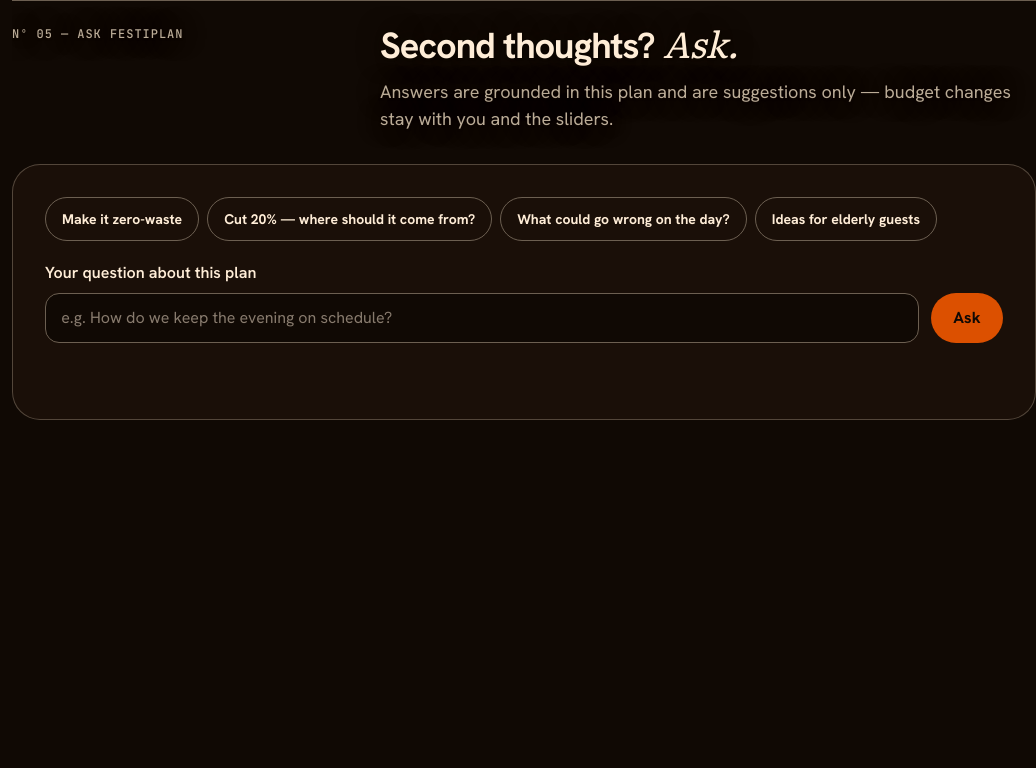
Test case: AskSection answer language › leaves the English template answer without a lang attribute
Type "Rain plan?" into the field labelled "Your question about this plan" at coordinates (482, 318), box [45,294,919,343]
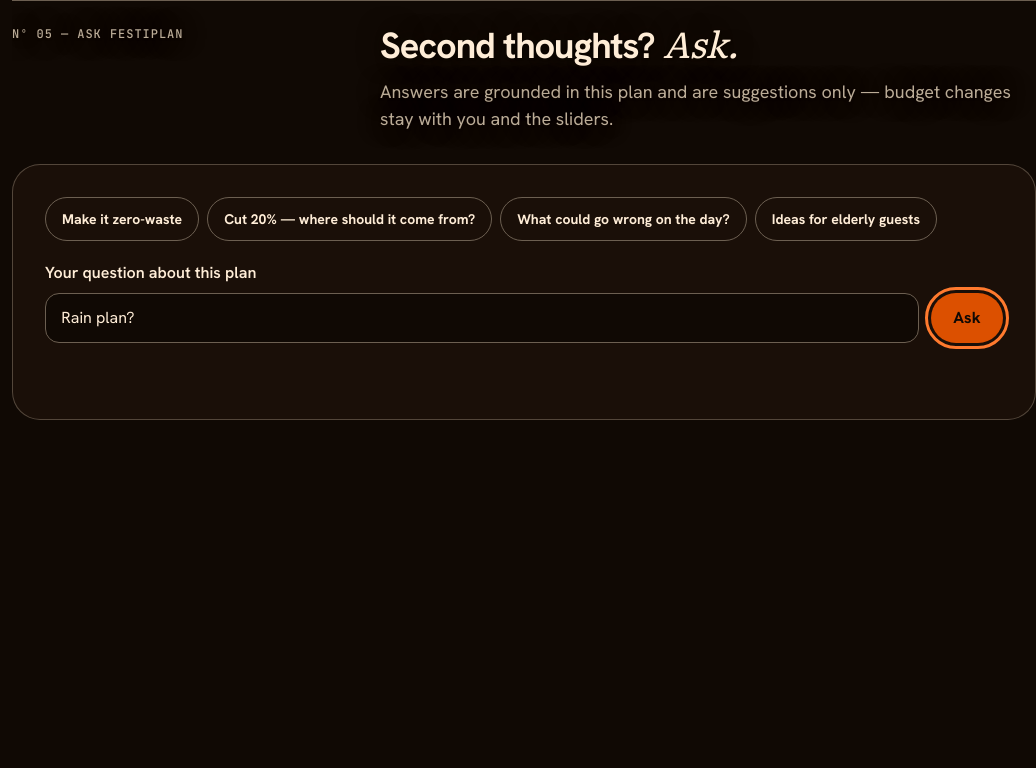
Click the button "Ask" at coordinates (967, 318), box [931,294,1003,343]
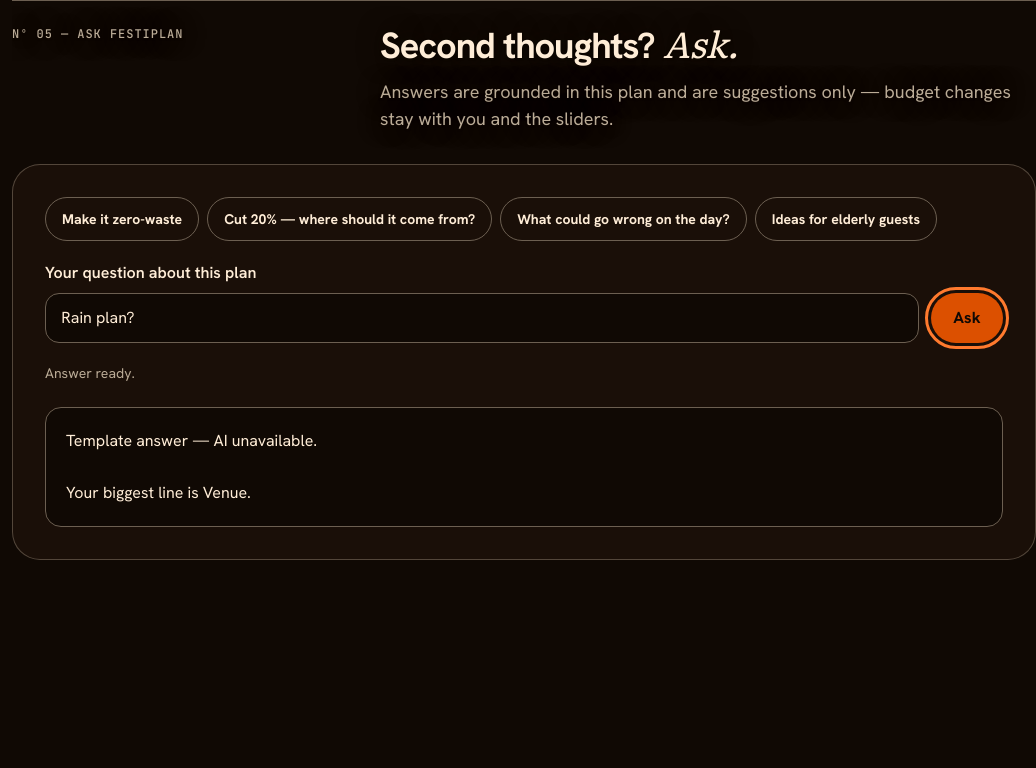
Result: the text "Answer ready." is shown at [45,364,135,382]
Result: the text "Your biggest line is Venue." is shown at [66,430,317,503]
